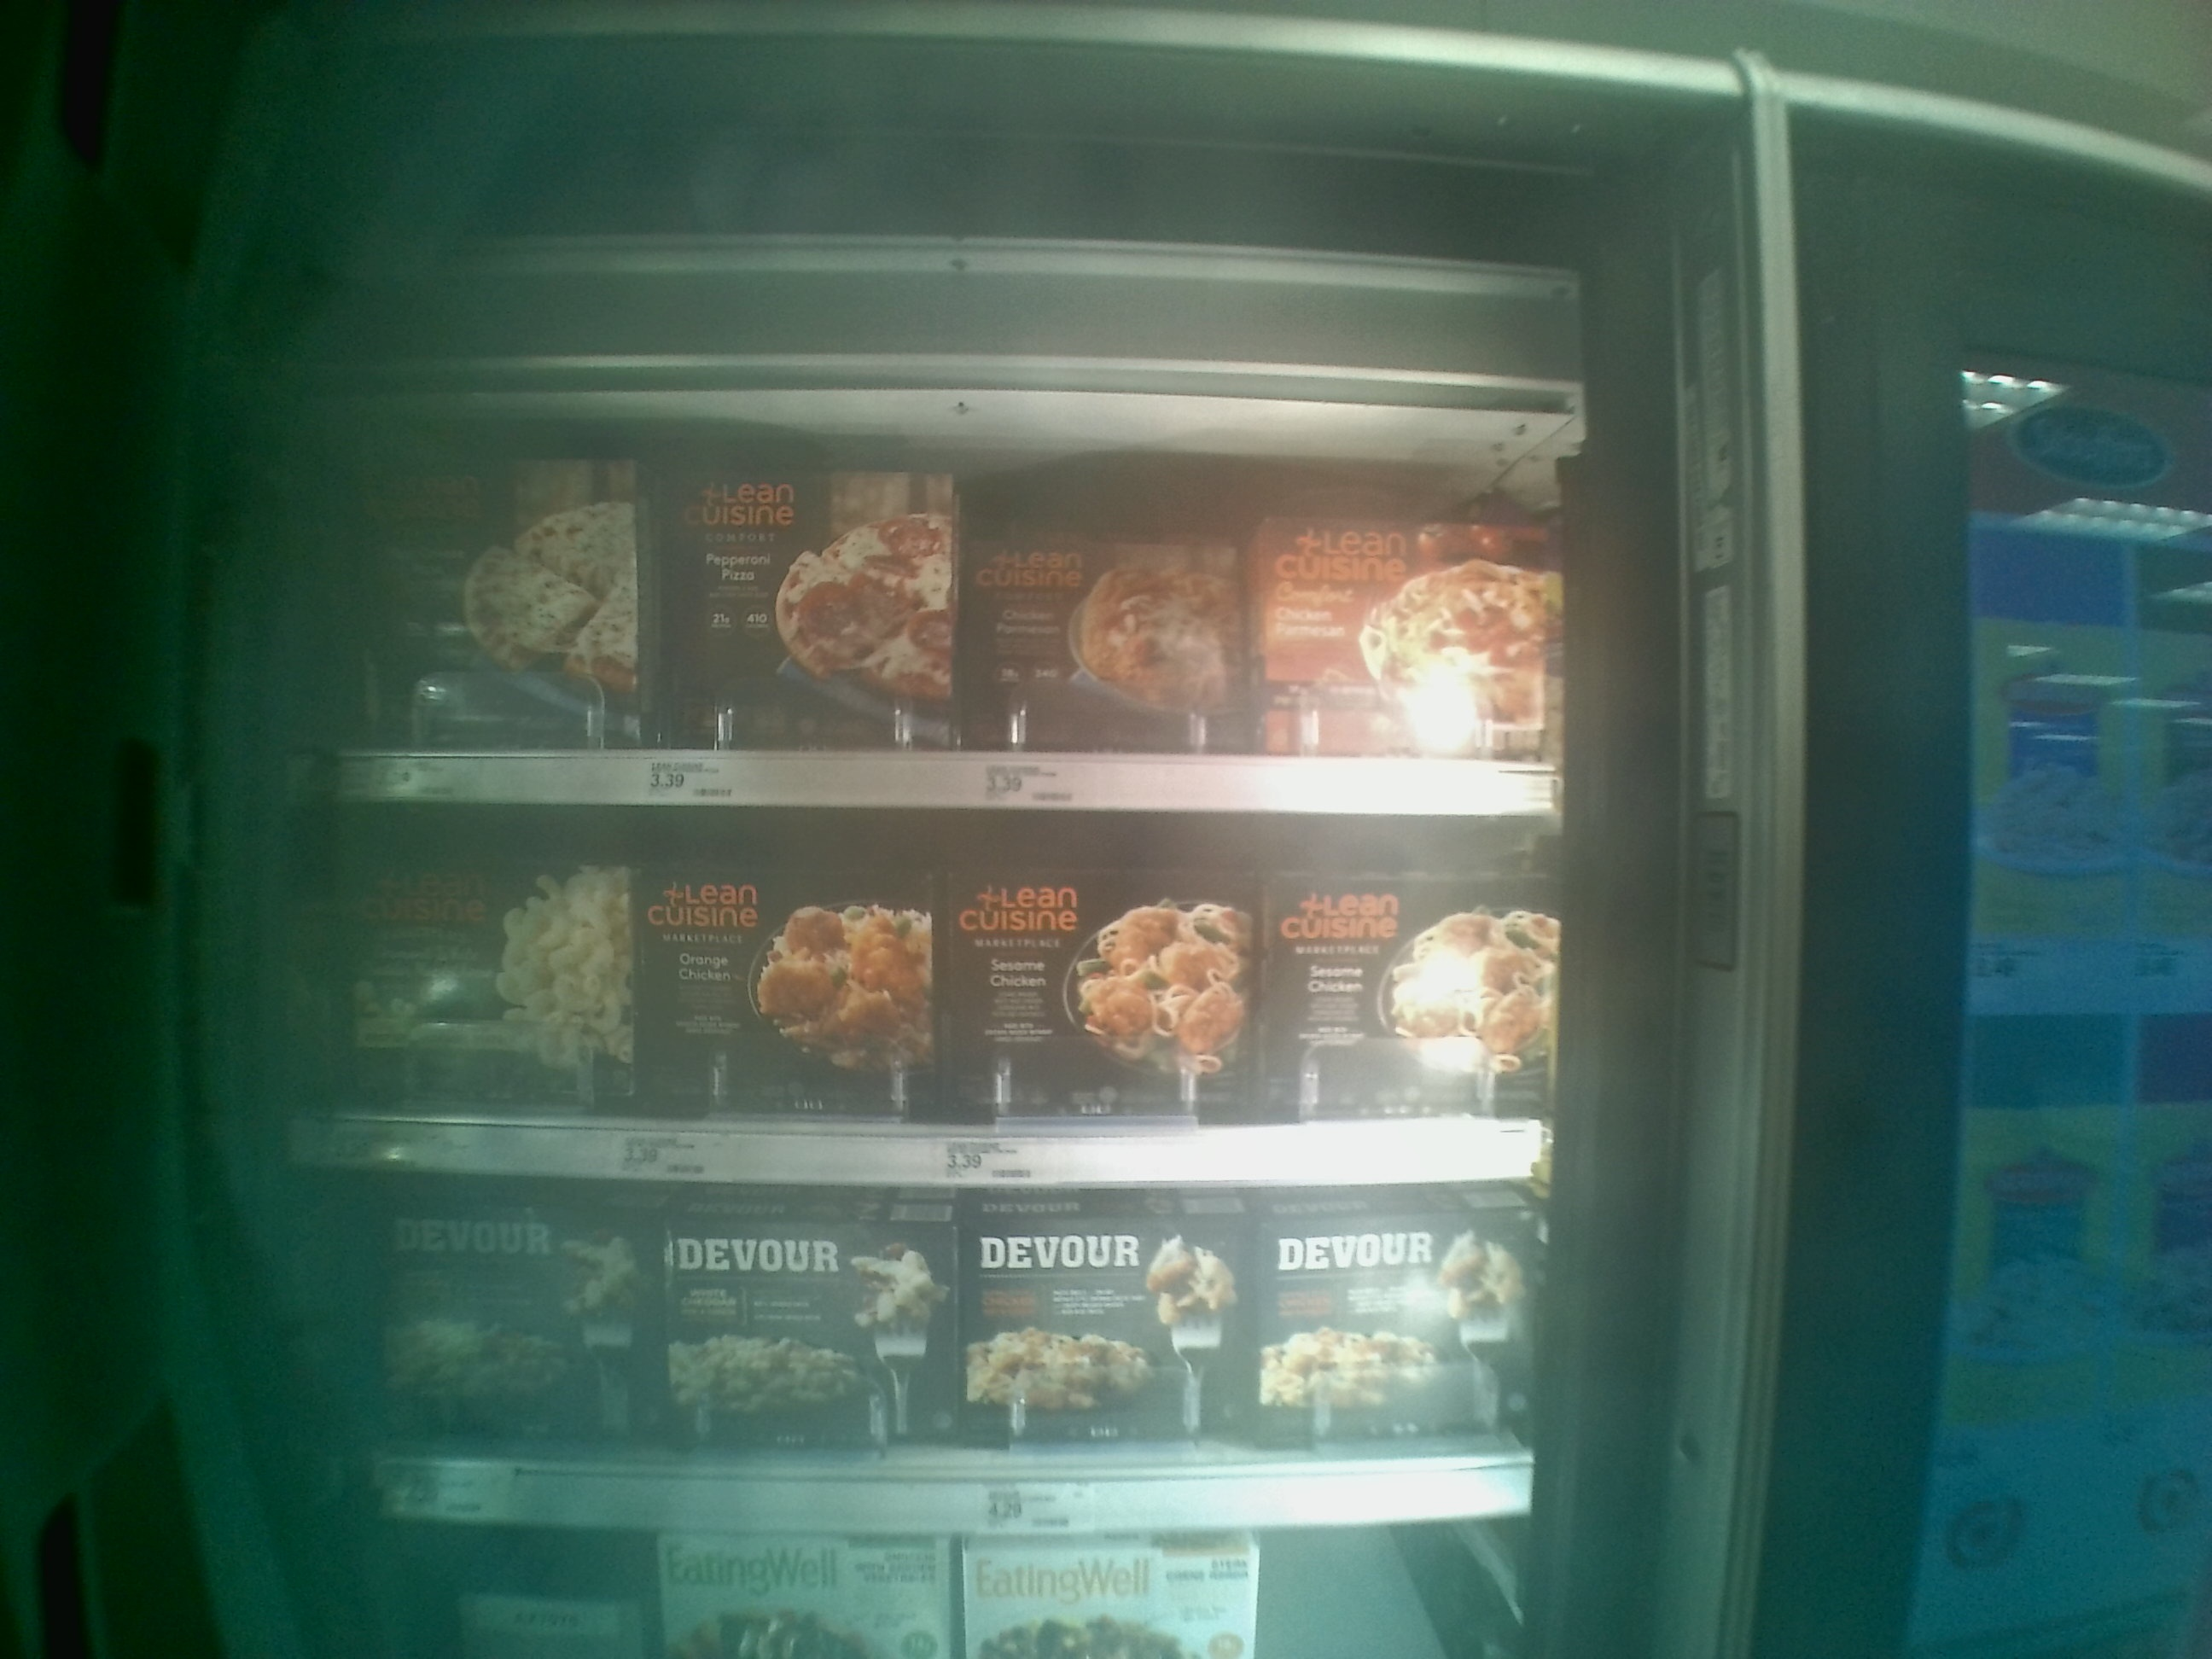pizza: (350, 451, 643, 746), (672, 457, 949, 749), (935, 868, 1256, 1108), (627, 864, 932, 1114), (341, 859, 627, 1105), (657, 1202, 954, 1438), (1264, 868, 1561, 1100), (366, 1202, 667, 1427), (953, 1209, 1244, 1441), (1259, 1222, 1536, 1441), (1268, 532, 1555, 734), (972, 530, 1245, 734)
